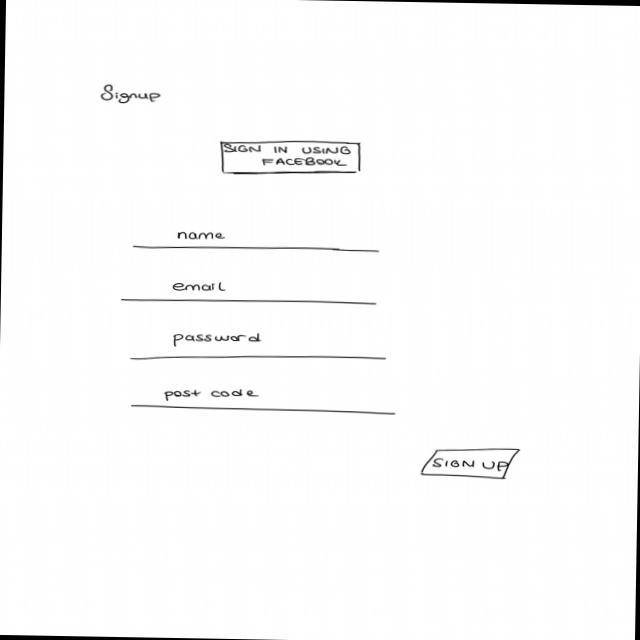button: (218, 137, 364, 178), (416, 444, 522, 480)
input: (127, 326, 388, 365), (128, 384, 396, 416), (119, 278, 378, 307), (131, 228, 381, 254)
label: (98, 83, 162, 105)
